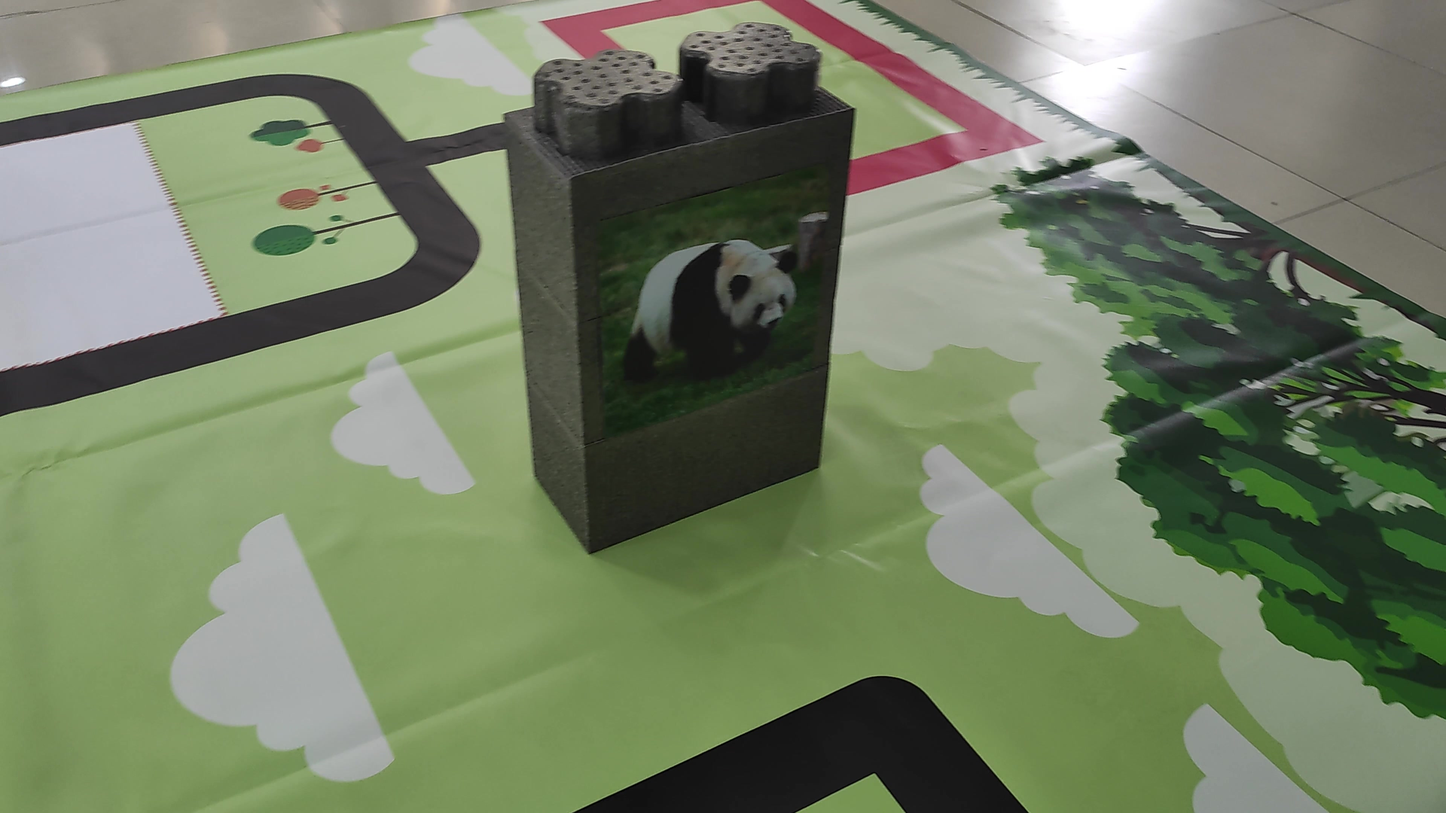panda: (607, 227, 827, 396)
